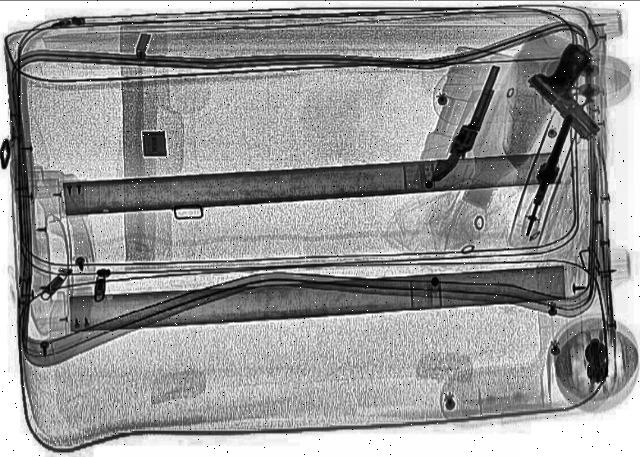Gun: (420, 59, 516, 196), (518, 42, 634, 148)
